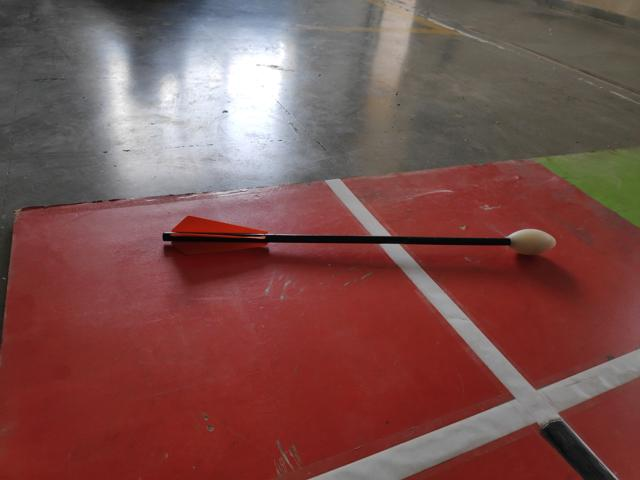Head: (503, 226, 558, 259)
Tail: (160, 214, 272, 259)
